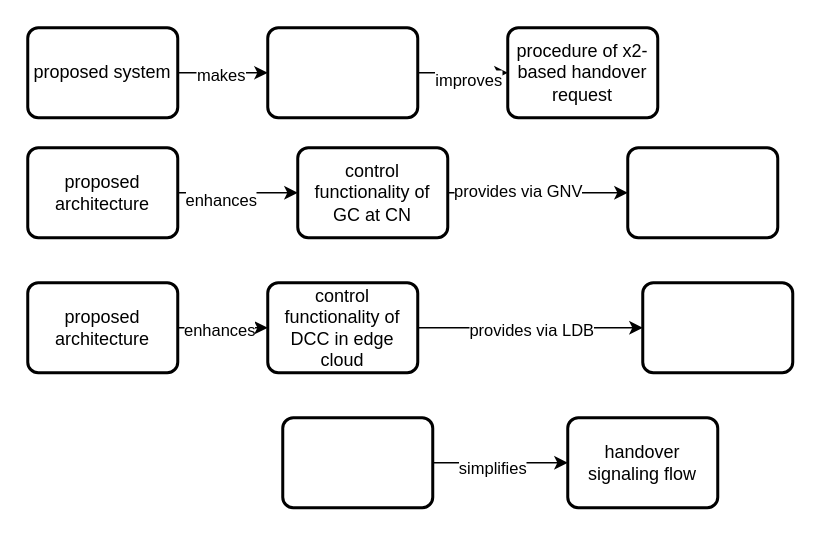
Image size: 819x534. Some labels were removed from this diagram. The centre of each missing label's shape, as x and y in pixels:
"C-RAN programmable" goes at point 342,72.
"network enhancement across cluster of small cells" goes at point 717,327.
"network enhancement across clusters" goes at point 702,192.
"NO stack architecture" goes at point 357,462.
